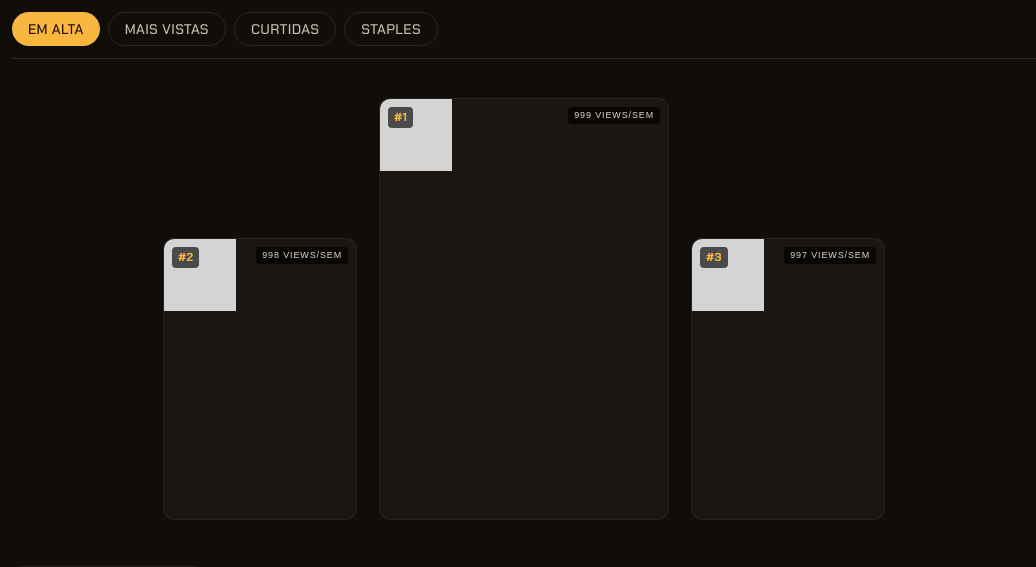
Test: TopCards › shows an empty state for a ranking lens with no data
This screenshot has width=1036, height=567.
Click the tab "Curtidas".
click(285, 29)  # box 234,12 -> 336,46
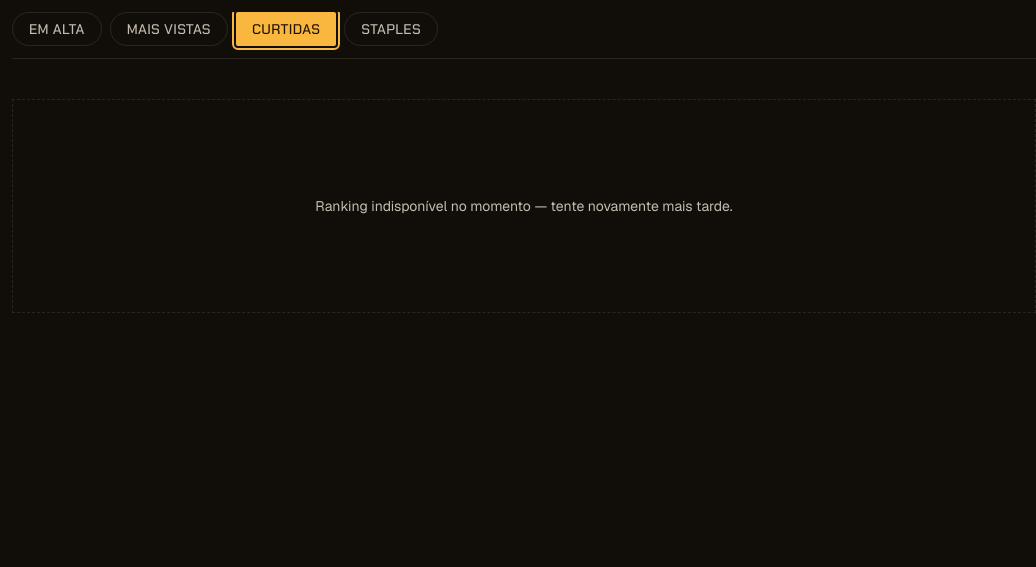
expect the text "indispon" is shown: met, box 315,197 -> 733,215
